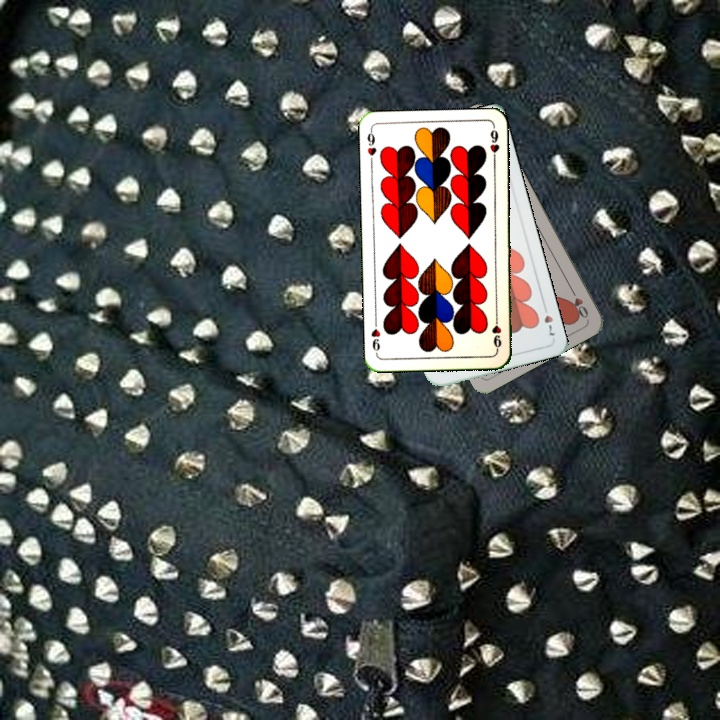H7: (539, 300, 557, 338)
H9: (363, 126, 379, 167), (488, 312, 504, 352)
HO: (566, 284, 591, 321)
